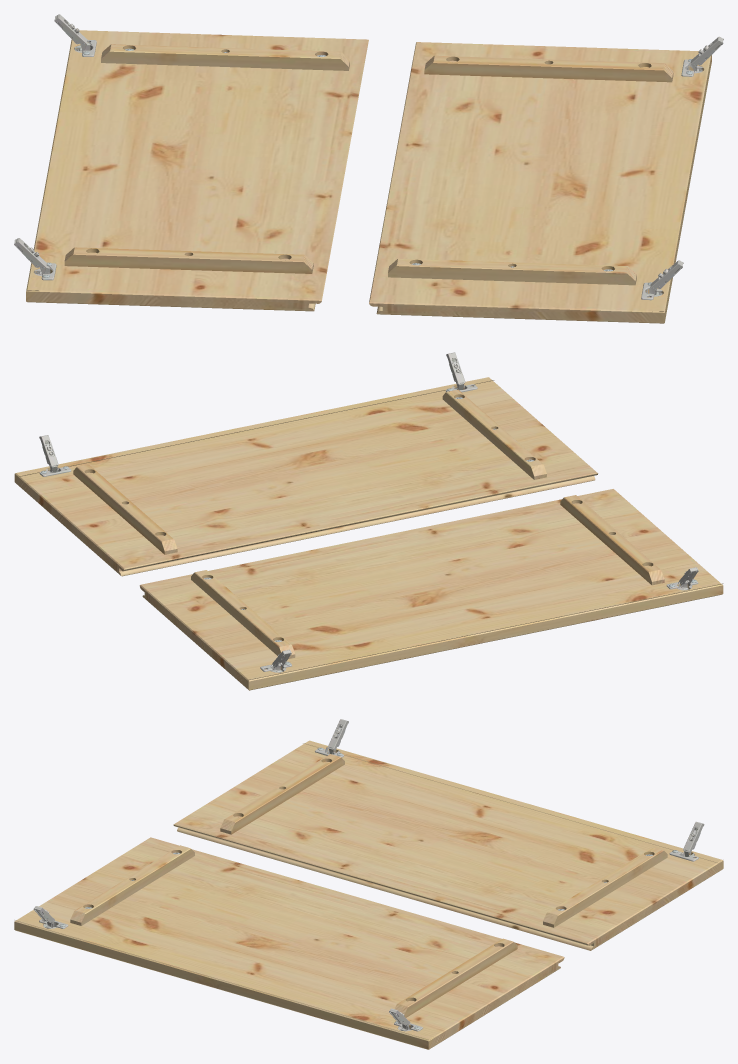
File: ivarBuildStep6-CsRsqQsi.glb
The picture shows the model from 3 angles, top to bottom: view 1: azimuth 30°, elevation 25°; view 2: azimuth 150°, elevation 25°; view 3: azimuth 270°, elevation 25°; orthographic projection. The views are drawn at different scales.
Parts seen in each view (by area): view 1: IVAR_400.337.004, IVAR_400.337.63; view 2: IVAR_400.337.63, IVAR_400.337.004; view 3: IVAR_400.337.004, IVAR_400.337.63.
Part boxes in pixels (x1,y1,x2,y2): IVAR_400.337.004: (369, 36, 723, 323); IVAR_400.337.63: (26, 30, 368, 311); IVAR_400.337.63: (139, 489, 723, 690); IVAR_400.337.004: (14, 352, 598, 576); IVAR_400.337.004: (14, 837, 564, 1049); IVAR_400.337.63: (173, 740, 723, 950).
Size of the model in its own units: 1.17 by 0.064 by 1.16.
4 materials, 4 textured.
